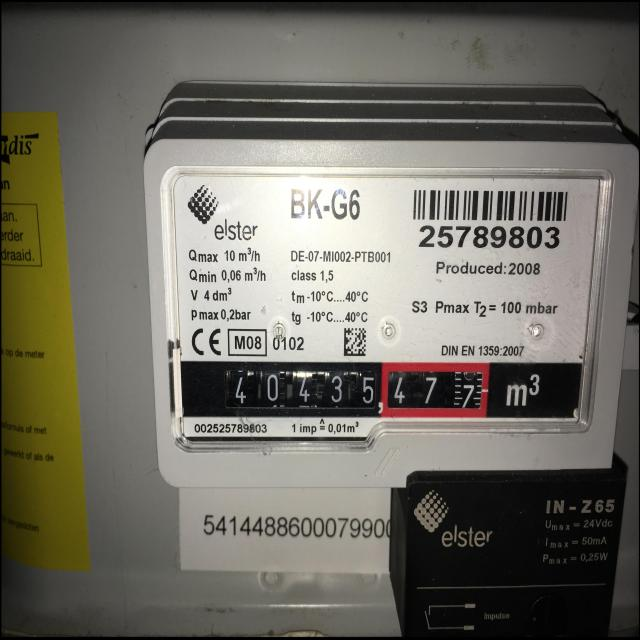gaz_meter: (168, 176, 585, 426)
indication: (218, 358, 492, 422)
